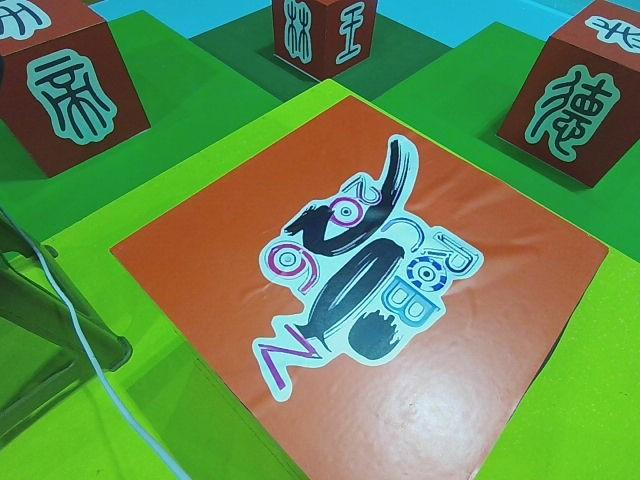R1: (108, 94, 610, 480)
R2 Fake: (0, 0, 153, 180), (496, 0, 640, 190), (272, 0, 378, 82)
